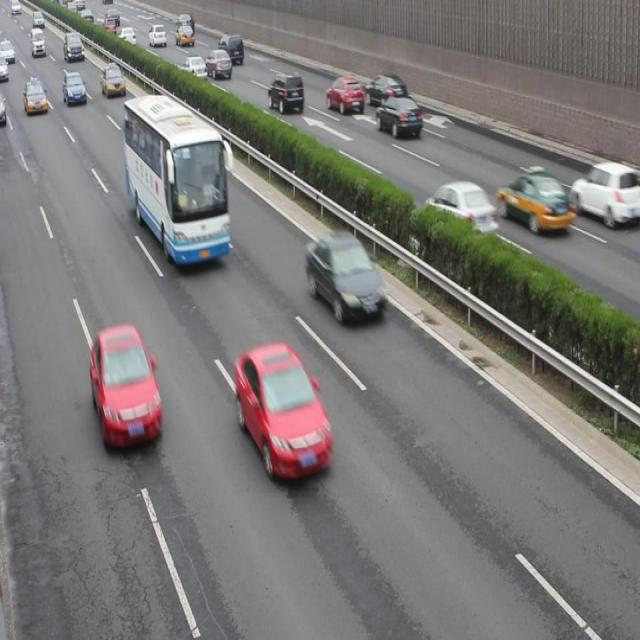car: (235, 343, 334, 480), (90, 325, 162, 448), (304, 232, 384, 323), (496, 166, 570, 233), (568, 162, 640, 226), (424, 181, 498, 241), (375, 94, 421, 138), (325, 75, 363, 116), (268, 73, 304, 114), (364, 74, 406, 109), (204, 48, 231, 80), (101, 63, 125, 98), (24, 79, 47, 114), (181, 56, 208, 85), (63, 72, 86, 105), (63, 32, 85, 63), (174, 23, 194, 47), (117, 26, 137, 47), (148, 24, 167, 46), (176, 13, 195, 33)
truck: (218, 34, 244, 66)
van: (124, 94, 233, 264)
